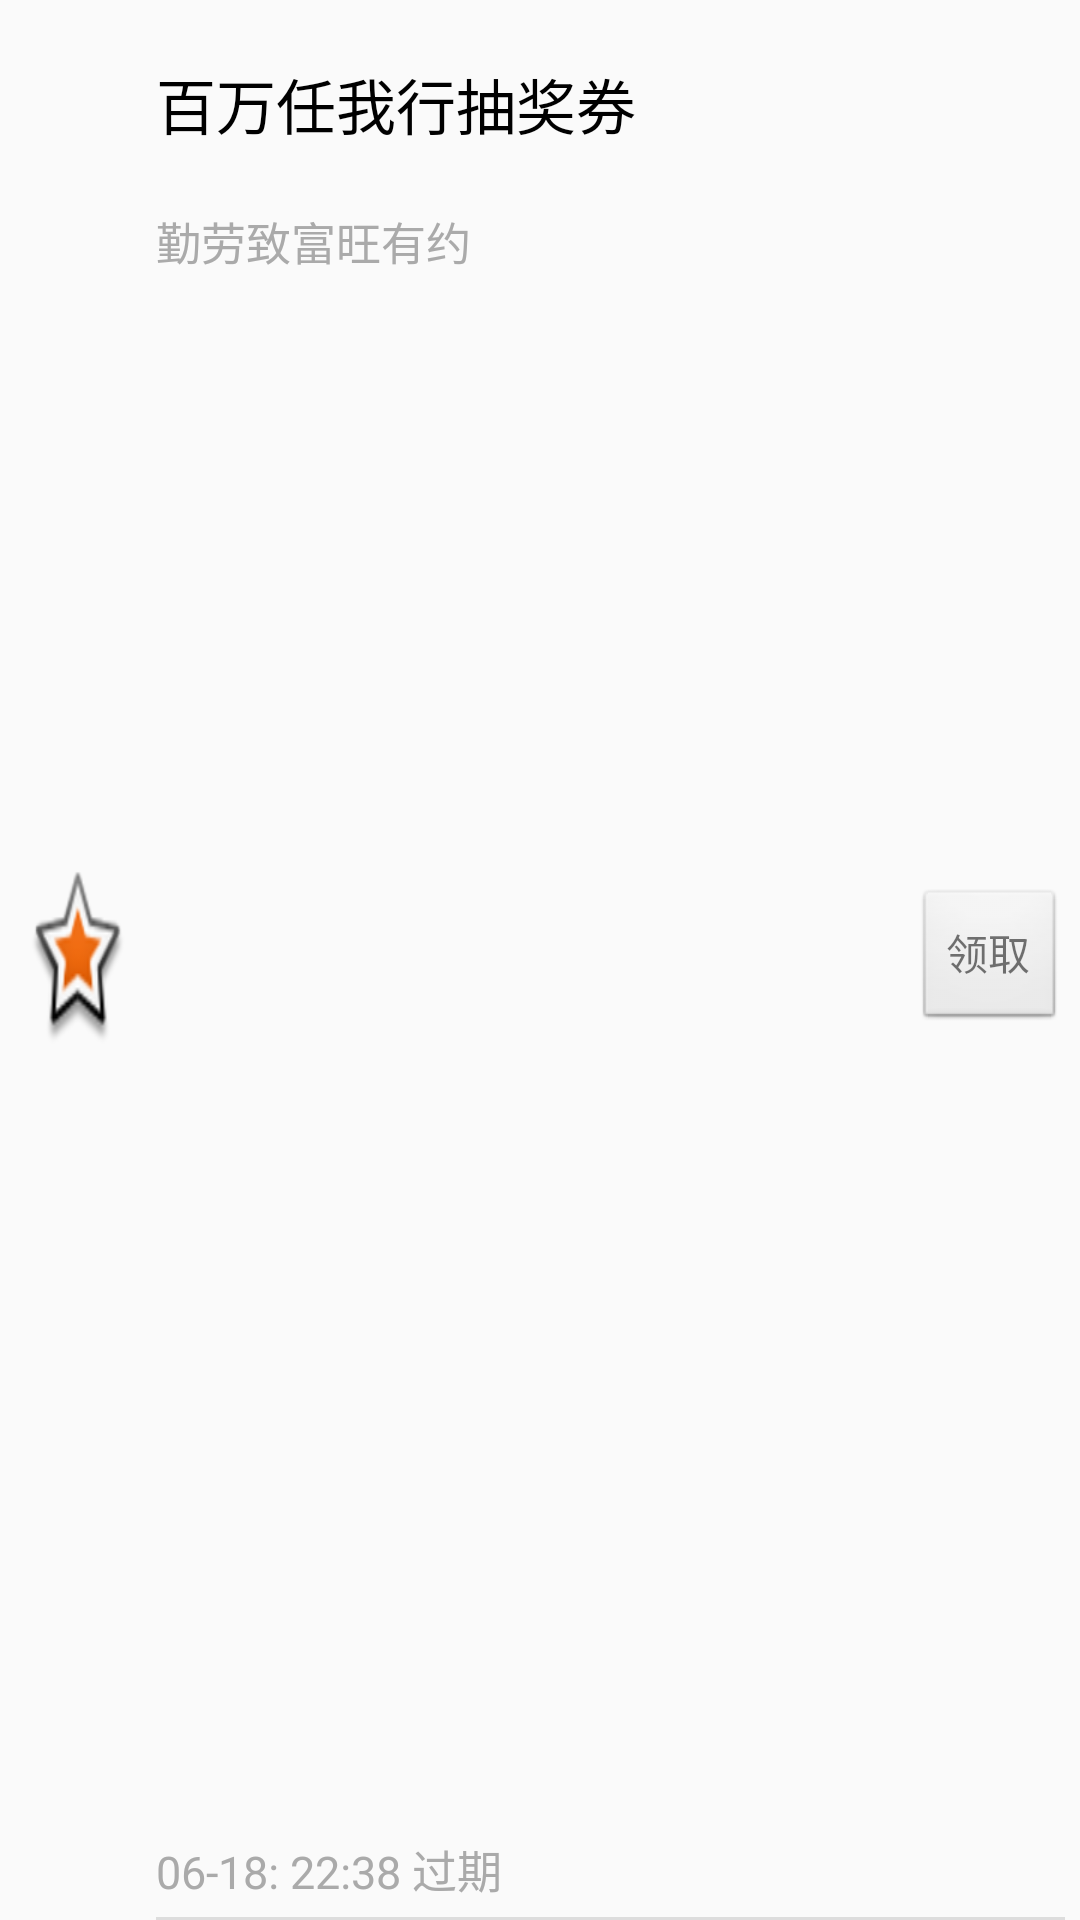

Named icons in this screenshot (1080*1920) and their bounding boxes, [x1,y1,x2,y2]:
star on: [35,872,121,1035]
